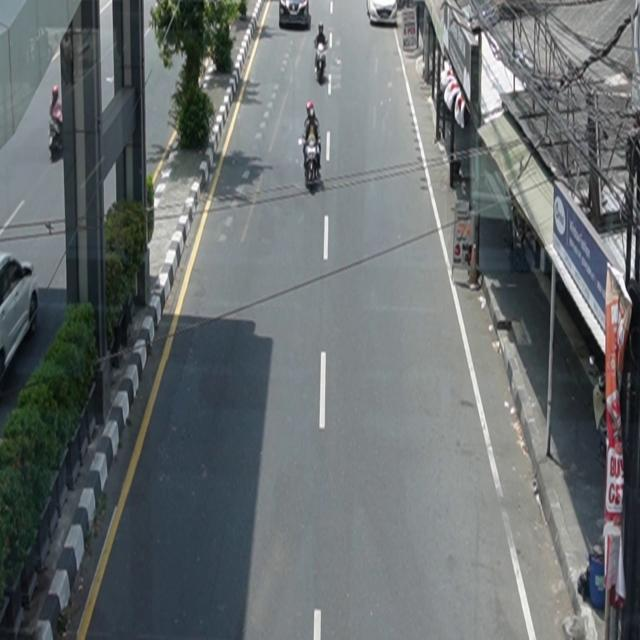car: (1, 252, 40, 387), (280, 1, 312, 31), (366, 1, 398, 26)
